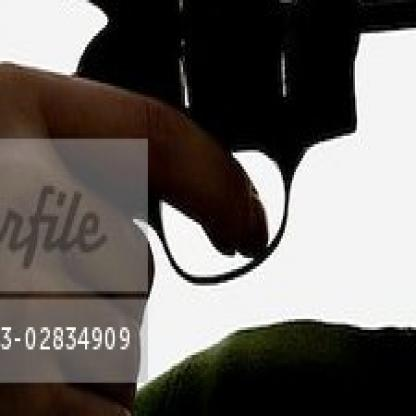gun: (0, 0, 414, 336)
